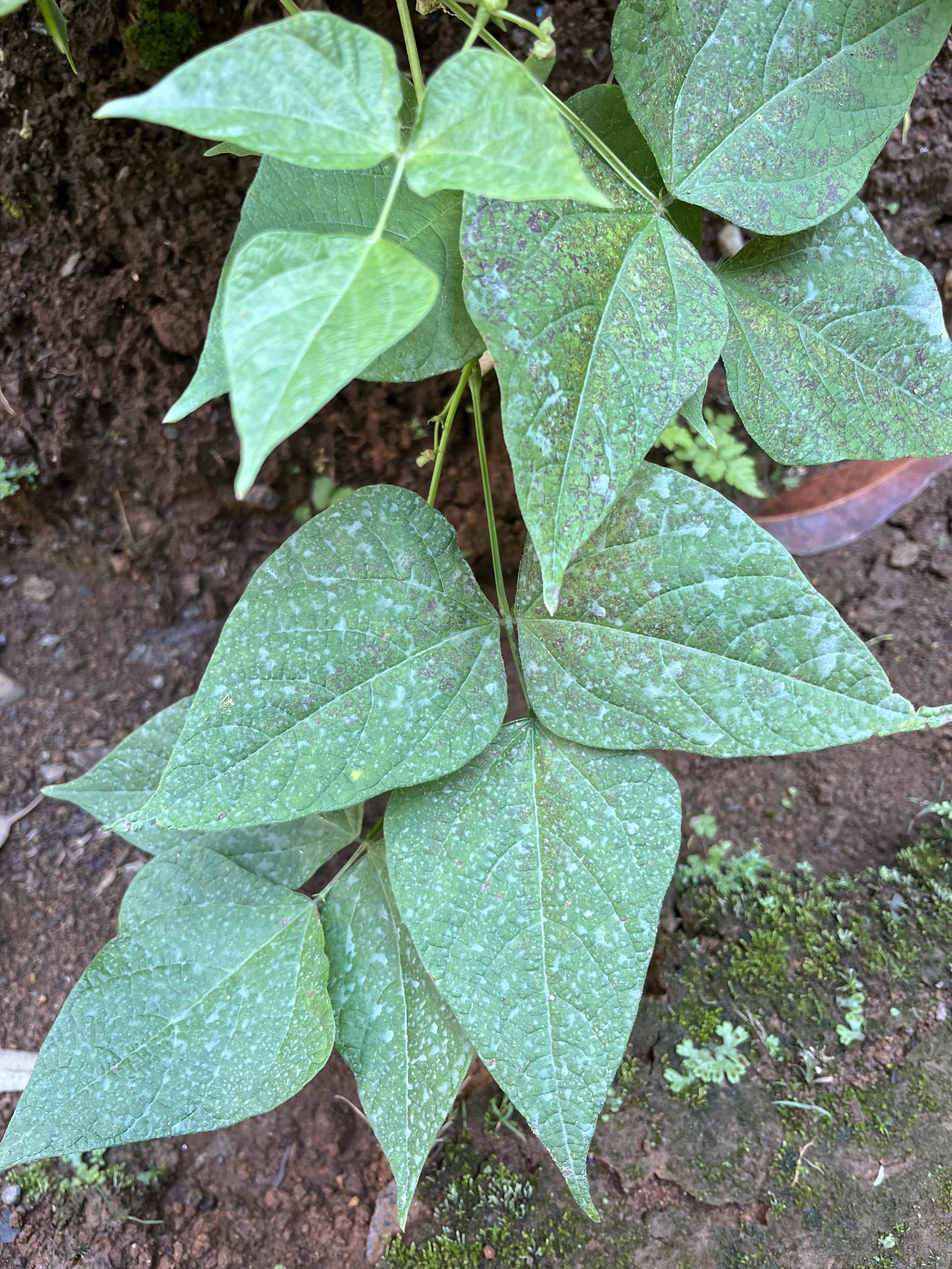embun tepung: (154, 517, 526, 830)
